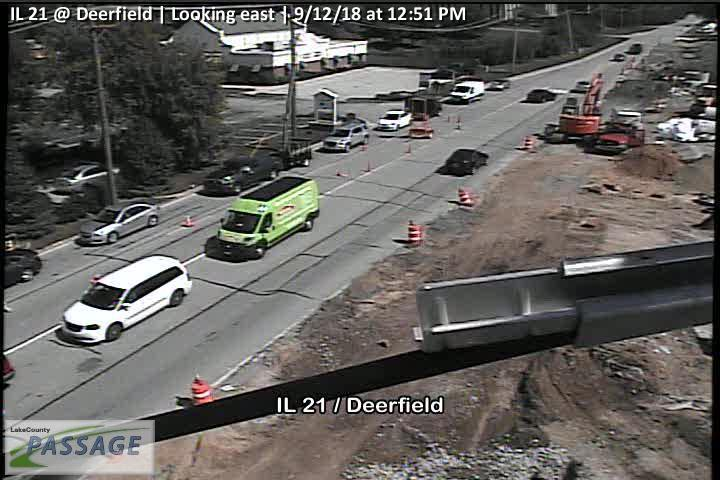SUV: (59, 255, 192, 344), (216, 176, 321, 261), (324, 122, 369, 153), (449, 80, 484, 103)
Sedan: (75, 202, 160, 244), (205, 154, 279, 195), (3, 249, 43, 293), (445, 147, 488, 174), (378, 109, 412, 130), (524, 87, 555, 102)
